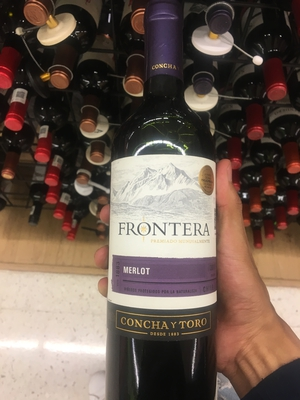frontera merlot: (96, 23, 238, 400)
